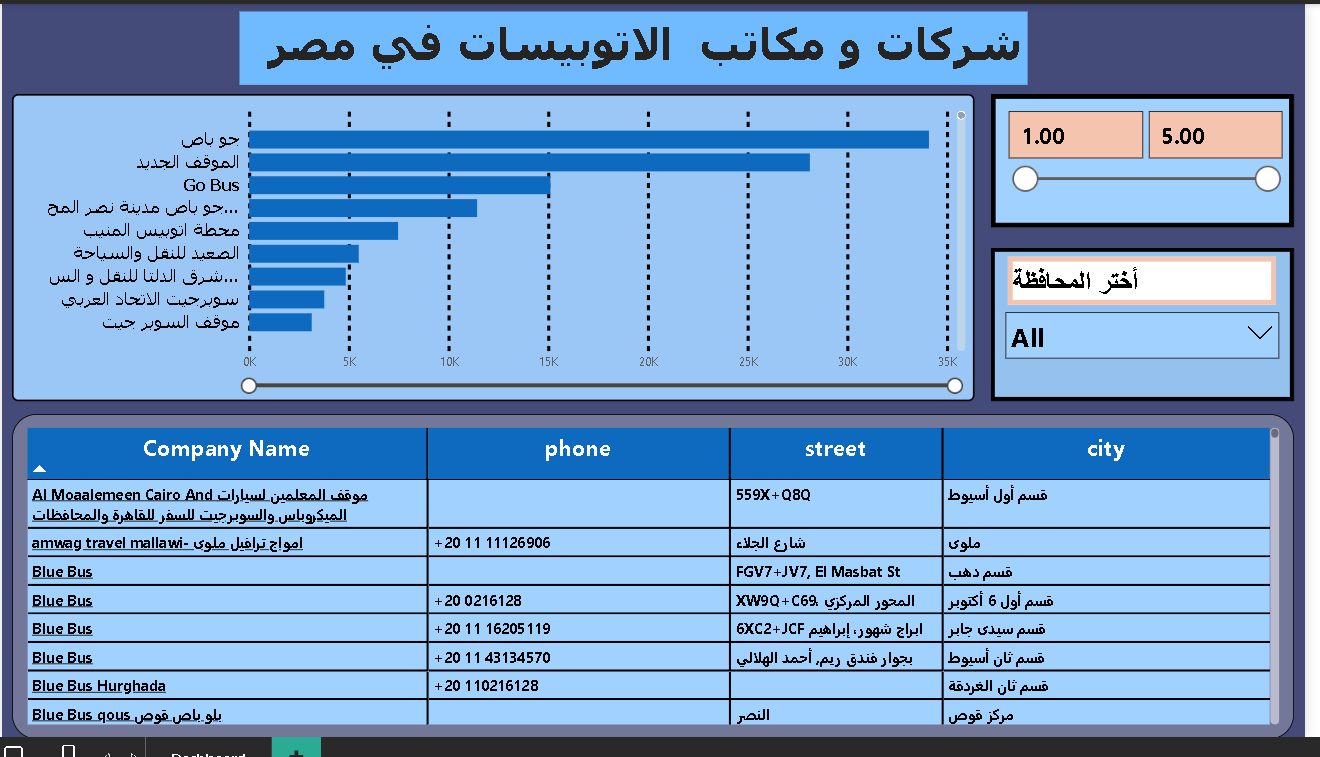

This screenshot's page, from the dashboard's own definition file:
{"tool":"powerbi","page":{"name":"Dashboard","canvas":[1280,720],"ordinal":0},"visuals":[{"type":"tableEx","fields":{"Values":["overview.title","overview.phone","overview.street","overview.city"]},"box":[10.1,402.5,1258.1,318.9],"z":0},{"type":"slicer","fields":{"Values":["overview.state"]},"box":[971,239.5,297.2,150],"z":1000},{"type":"clusteredBarChart","title":"by title","fields":{"Category":["overview.title"],"Y":["Sum(overview.reviewsCount)"]},"box":[10.1,88,945,301.5],"z":2000},{"type":"slicer","fields":{"Values":["overview.totalScore"]},"box":[971,88,297.2,131.3],"z":3000},{"type":"textbox","box":[233.7,7.2,773.3,72.1],"z":4000}]}

Visuals, with their boxes on the page's 1280x720 design canvas (x1, y1, x2, y2). These are canvas units, not pixel positions in the 1320x757 screenshot, which may show the page scaled, cropped or inside an application window:
tableEx - overview.title x overview.phone: 10:402:1268:721
slicer - overview.state: 971:240:1268:390
"by title" clusteredBarChart: 10:88:955:390
slicer - overview.totalScore: 971:88:1268:219
textbox: 234:7:1007:79
